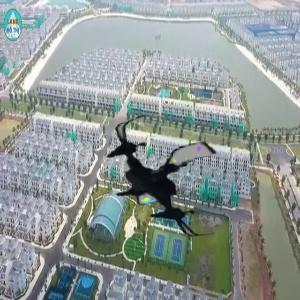drone: (97, 113, 228, 244)
